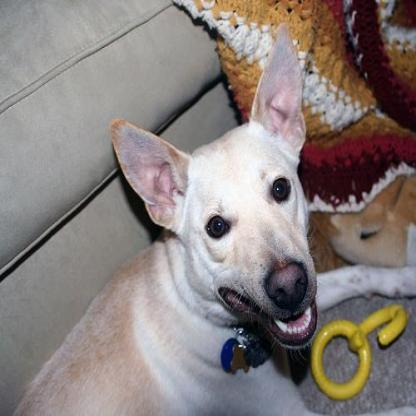dingo: (10, 16, 319, 413)
